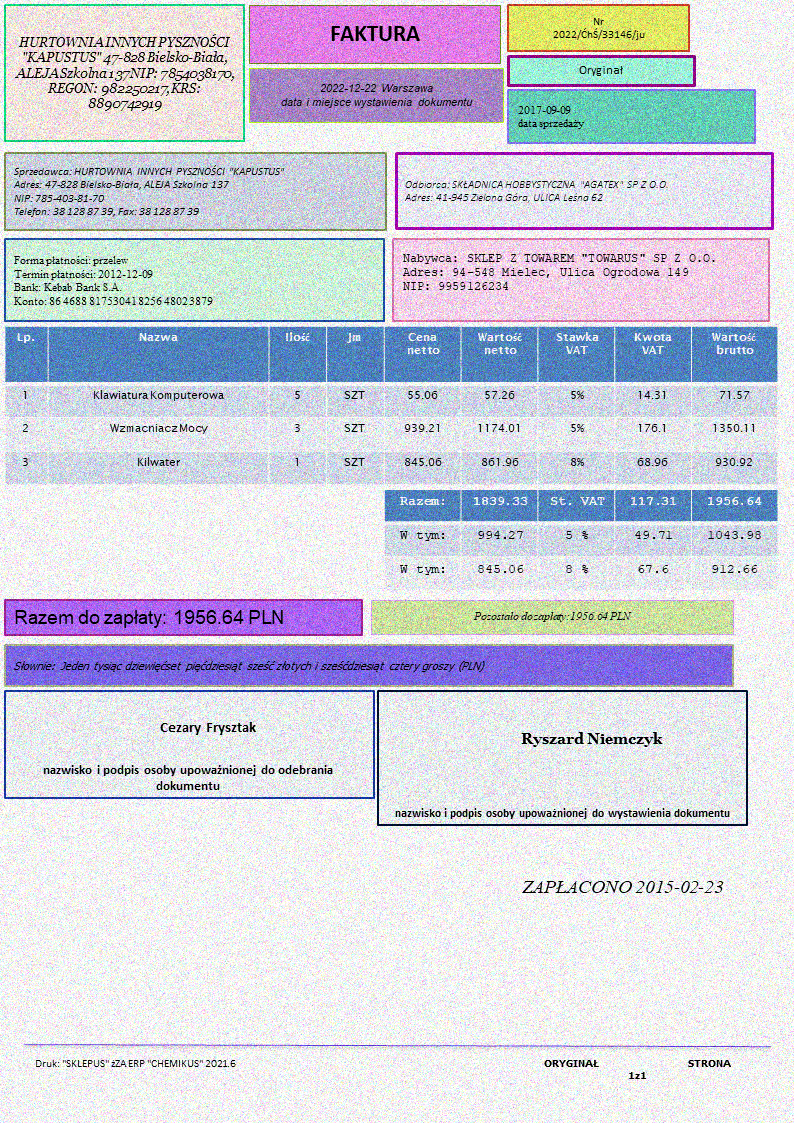Table: (3, 324, 779, 486), (383, 489, 780, 591)
TextBox: (13, 33, 238, 114), (11, 165, 287, 220), (400, 250, 719, 293), (12, 252, 216, 308), (39, 762, 336, 791), (12, 658, 487, 675), (402, 175, 670, 204), (12, 606, 285, 630), (392, 805, 732, 822), (280, 81, 475, 110), (540, 1056, 733, 1083), (519, 877, 726, 896), (520, 728, 664, 748), (33, 1057, 238, 1071), (551, 15, 647, 43), (471, 608, 634, 623), (328, 22, 422, 45), (515, 102, 585, 131), (159, 719, 258, 736), (577, 62, 625, 78)
